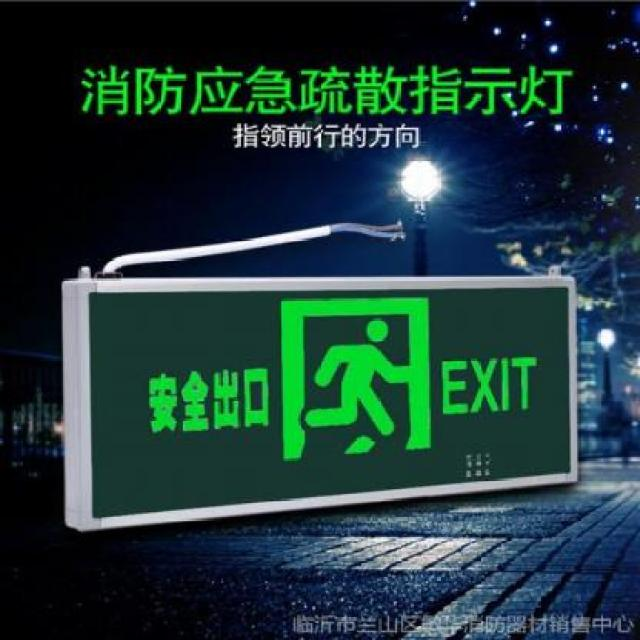exit_sign: (48, 266, 587, 528)
